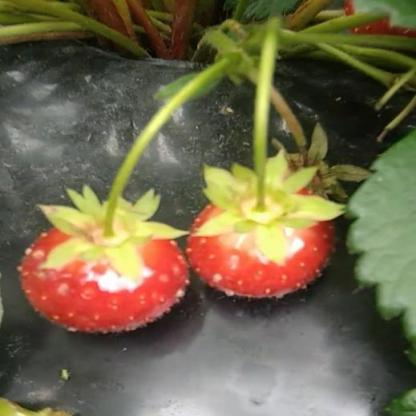ripe: (174, 177, 376, 302), (4, 210, 184, 342)
